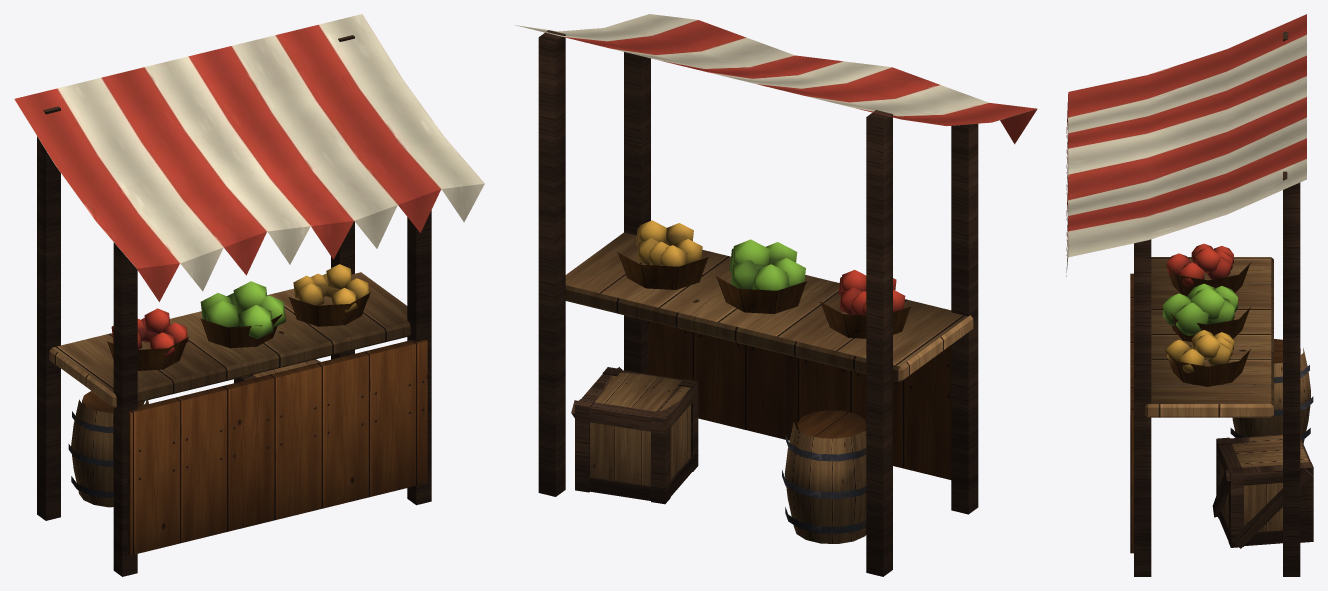
Rendered from town_market_stall.glb.
The picture shows the model from 3 angles, left to right: view 1: azimuth 30°, elevation 25°; view 2: azimuth 150°, elevation 25°; view 3: azimuth 270°, elevation 25°; orthographic projection. The views are drawn at different scales.
Parts seen in each view (by area): view 1: town_market_stall; view 2: town_market_stall; view 3: town_market_stall.
Part boxes in pixels (<box>): town_market_stall: <box>14,14,484,576</box>; town_market_stall: <box>514,14,1037,576</box>; town_market_stall: <box>1066,14,1313,576</box>.
Size of the model in its own units: 2.05 by 2.35 by 1.29.
Materials: 5 (4 with a texture image).
